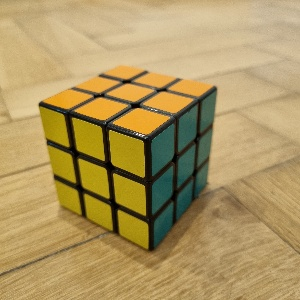cube: (40, 63, 217, 252)
